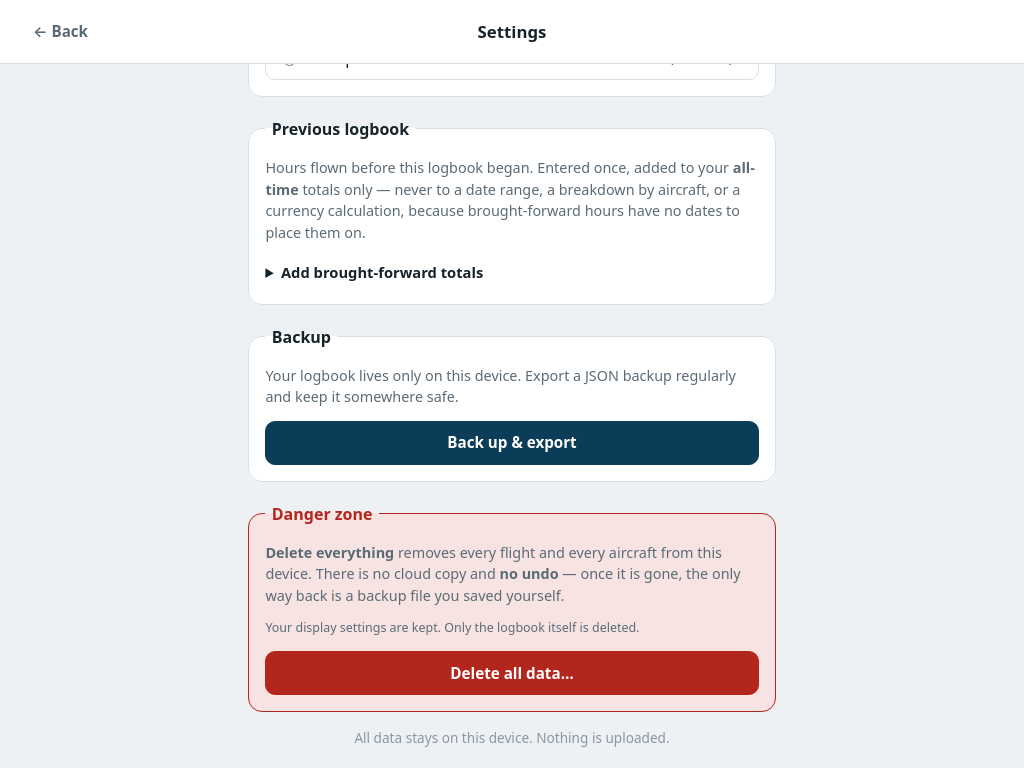
Test case: nothing happens without confirmation › states the real counts, read when the dialog opens
(page scrolled)
Click the button "Delete all data…": (512, 673) [265,651,759,695]
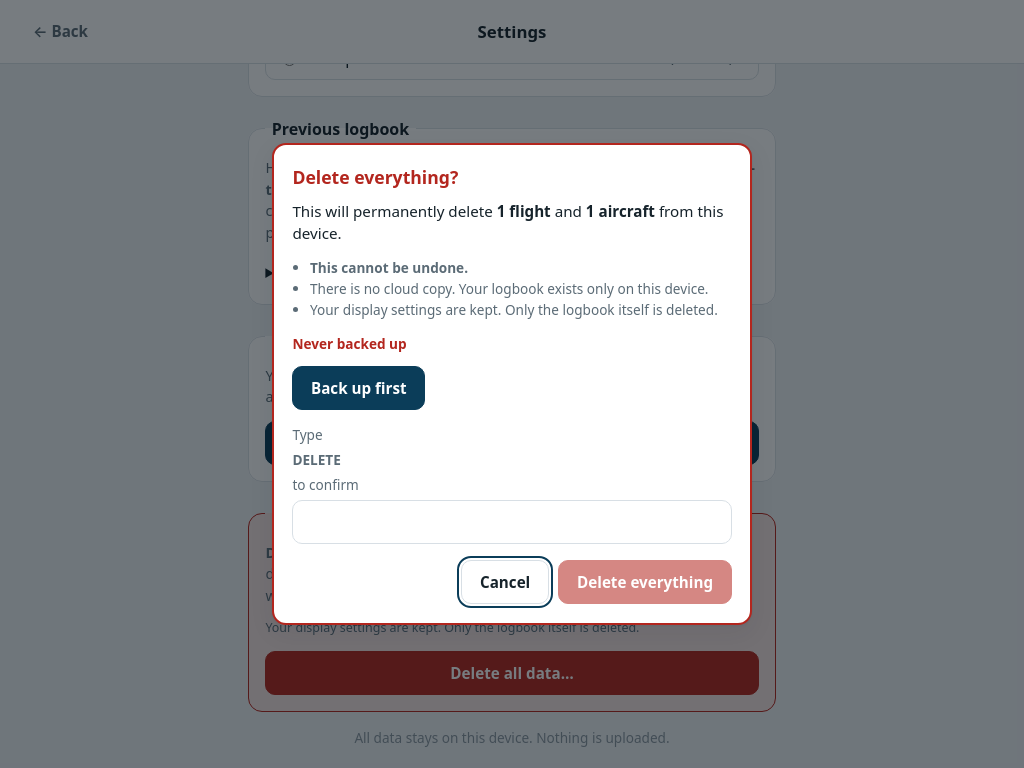
Now the text "1 flight" is shown, box [497,201,551,221]
Now the text "1 aircraft" is shown, box [586,201,655,221]
